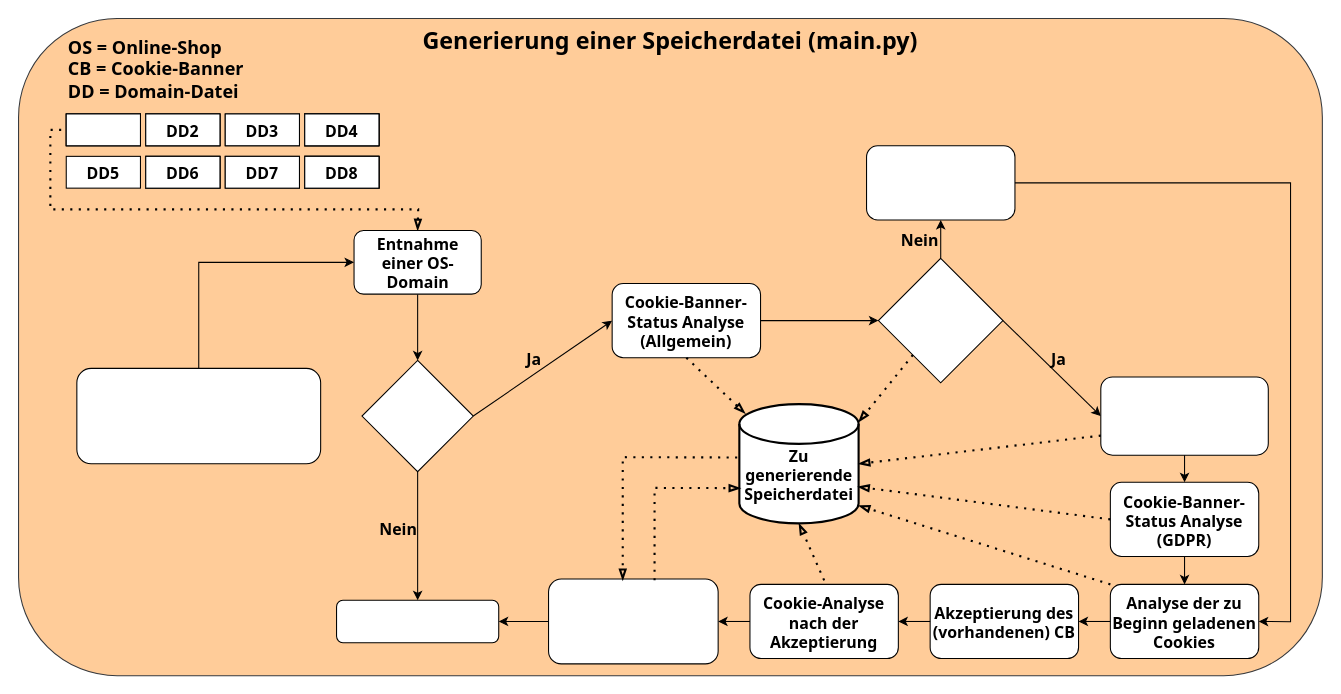
The diagram is 1341 pixels wide and 694 high, and some of its shapes have lost their labels. The box of each missing label's shape, as (x1, y1, x2, y2) in pixels:
Analyse der bisherigen erfassten Informationen: (547, 578, 718, 664)
CB-Merkmale vorhanden?: (877, 257, 1003, 383)
Cookie-Banner-Knopf-Status Analyse (Merkmale): (1100, 376, 1268, 455)
DD1: (65, 113, 140, 146)
Meldung: „Kein Banner vorhanden": (865, 145, 1015, 220)
OS online?: (361, 359, 473, 472)
Skript beendet: (335, 599, 499, 643)
Skript gestartet (Analyse eines Online-Shops): (76, 367, 321, 464)
